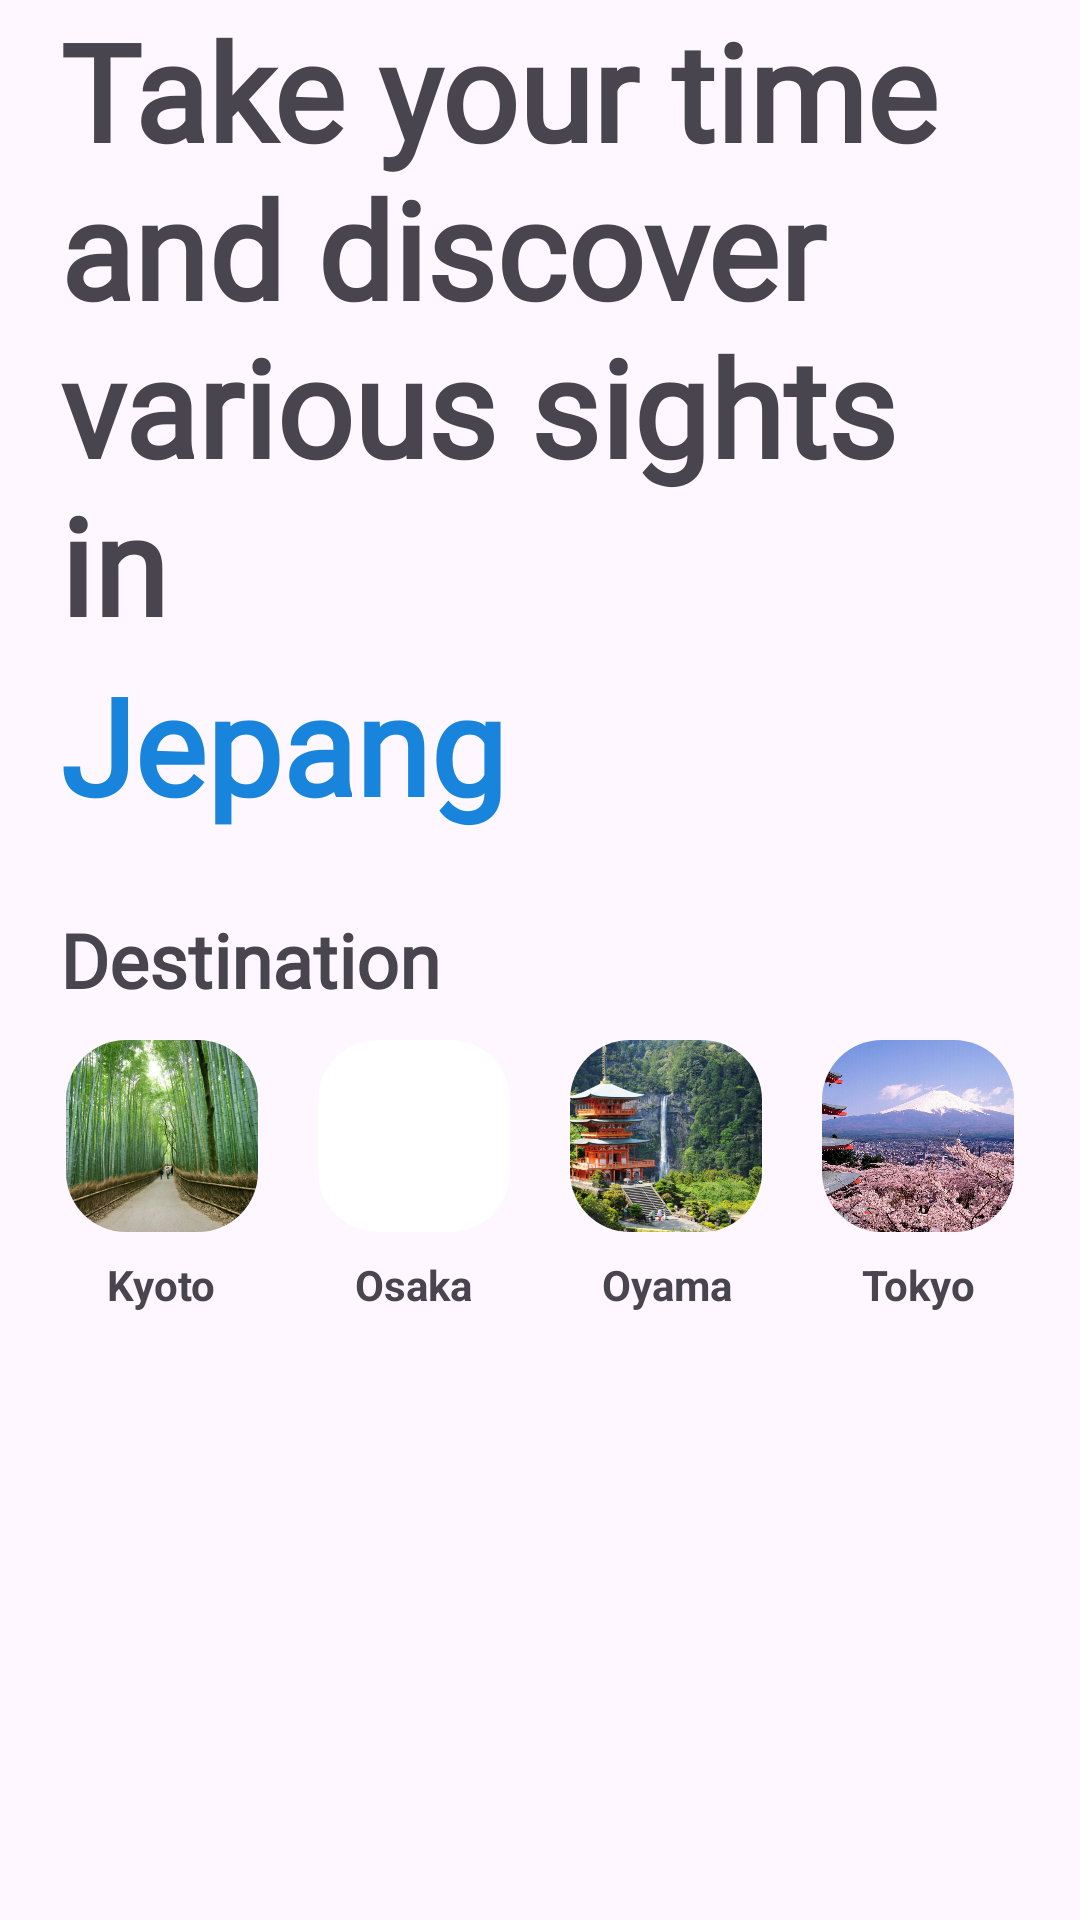

Named icons in this screenshot (1080w x 1920h) and their bounding boxes, (x1, y1, x2, y2):
bambu: (66, 1040, 258, 1232)
gunungfuji: (822, 1040, 1014, 1232)
terjunjepang: (570, 1040, 762, 1232)
